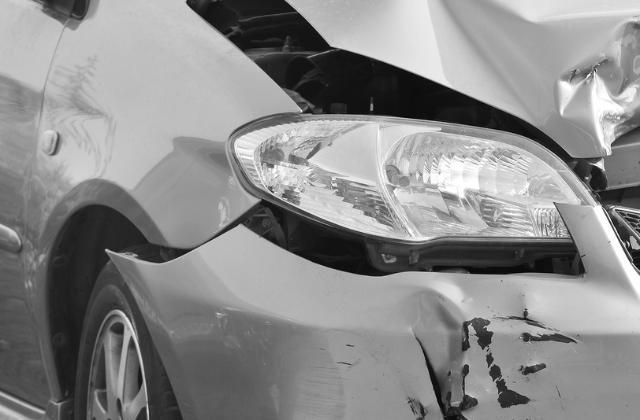Bonnet: (179, 1, 640, 160)
Bumper: (255, 270, 632, 420)
